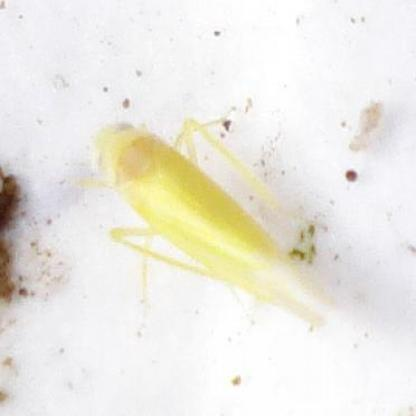green-leafhopper: (72, 118, 334, 328)
